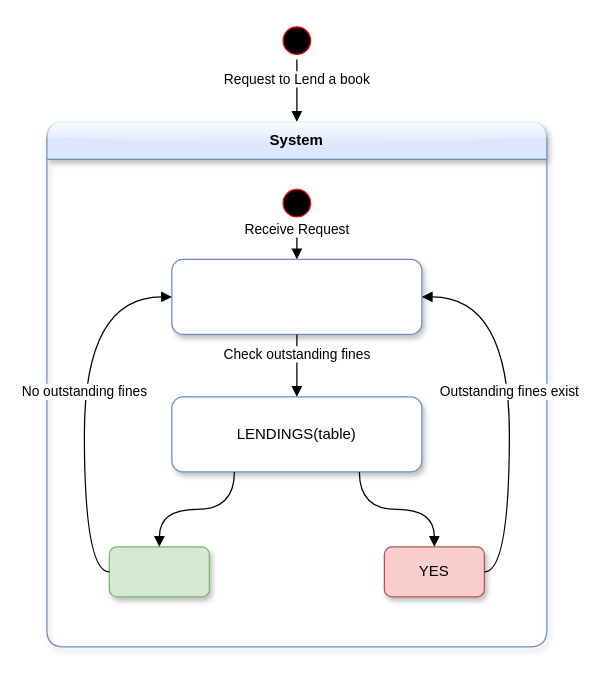
The diagram is 600 pixels wide and 678 high, and some of its shapes have lost their labels. Here are the shapes that lost their labels. From the top down, the centre of each, then its label:
At (x=297, y=298): "system: Receive Request".
At (x=160, y=573): "NO".
